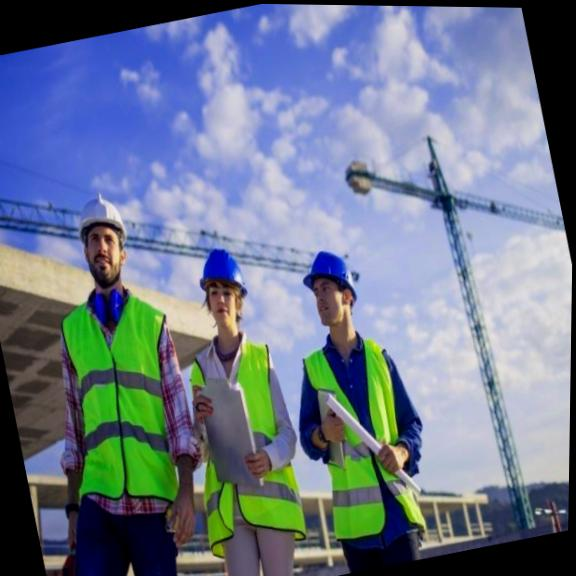safety_vest: (29, 283, 207, 539), (170, 325, 319, 563), (289, 327, 432, 551)
